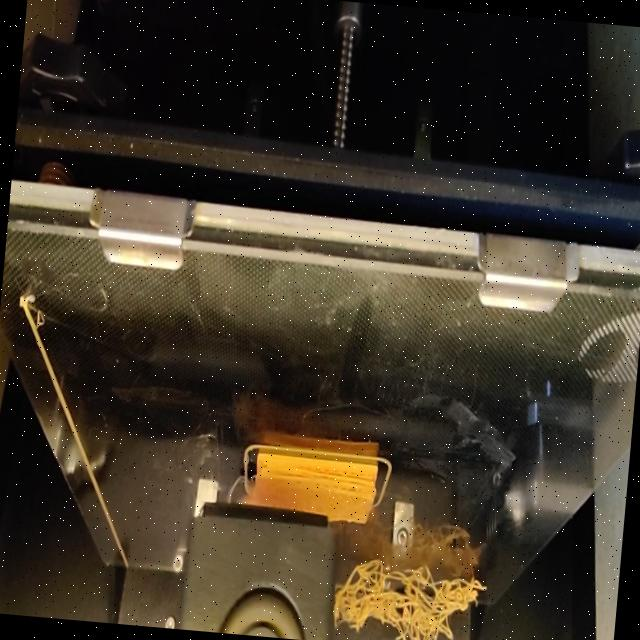spaghetti: (325, 550, 484, 640)
